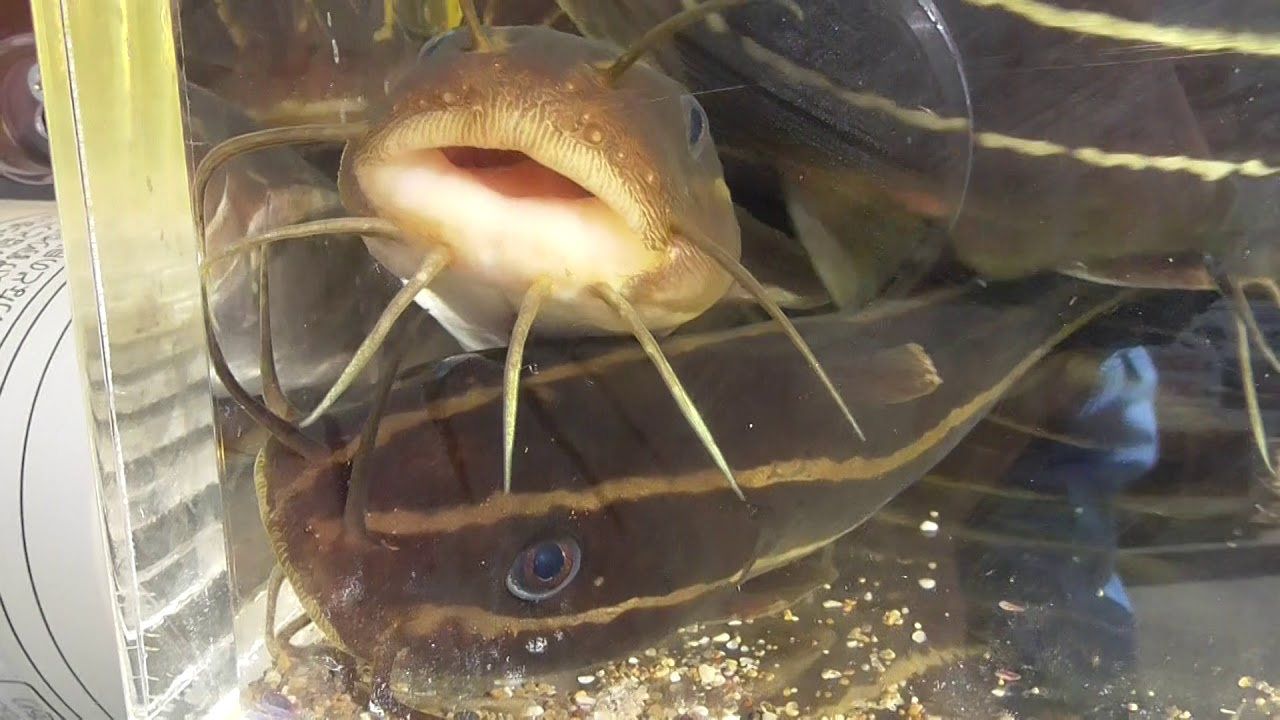gonzui: (279, 225, 1184, 655), (297, 22, 822, 355)
